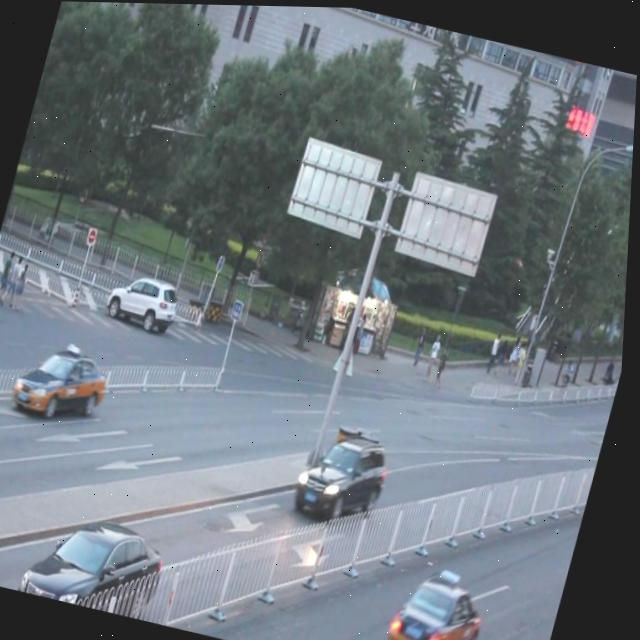car: (22, 508, 177, 620), (295, 429, 397, 523), (13, 343, 118, 431), (385, 563, 497, 640), (104, 269, 188, 339)
